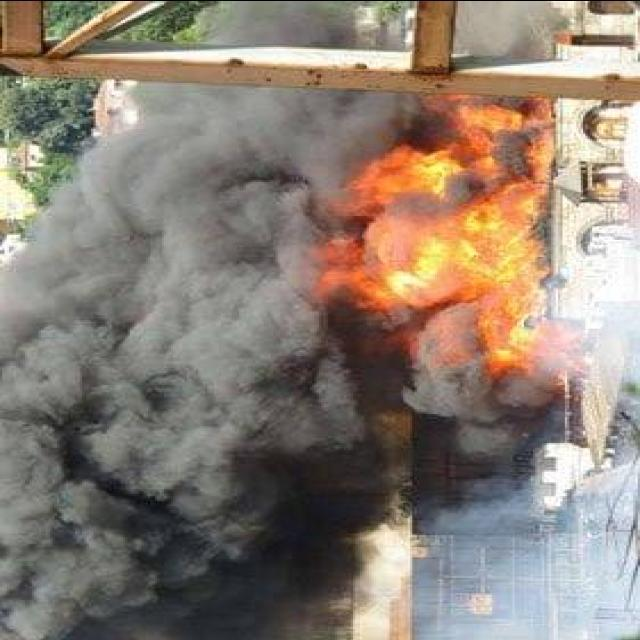Fire: (324, 92, 554, 376)
